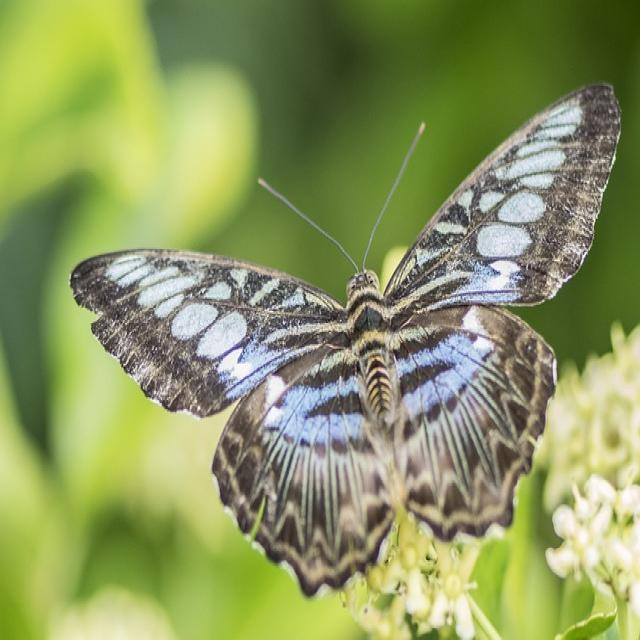butterfly: (69, 83, 622, 599)
